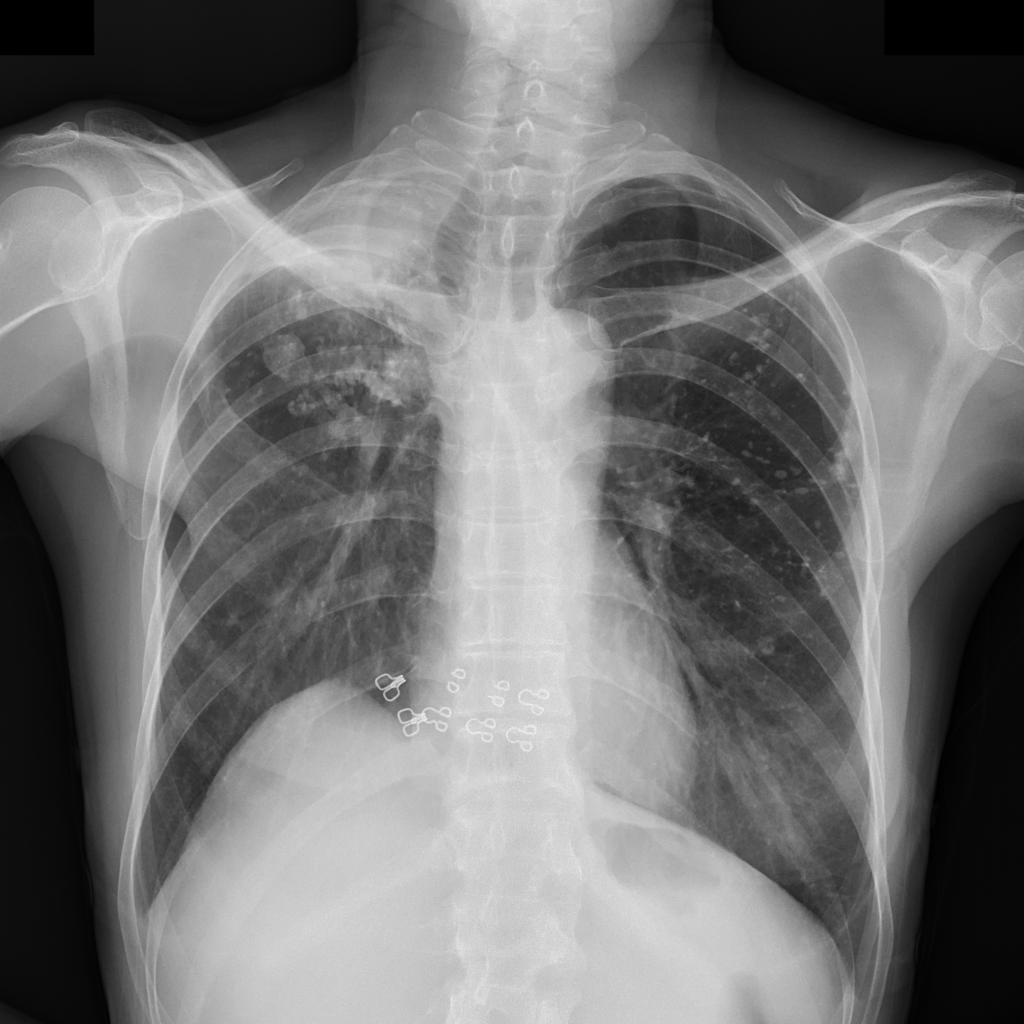Nodule: (354, 341, 428, 423), (262, 338, 306, 378)
